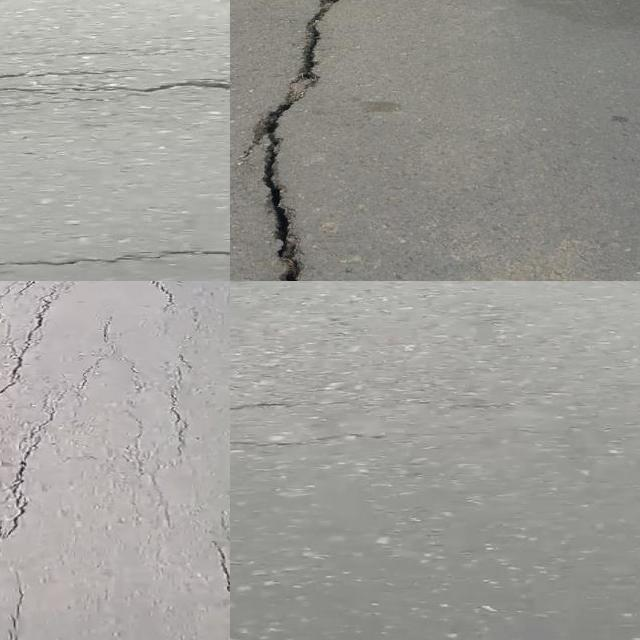Melintang: (0, 59, 230, 104), (0, 234, 230, 278)
Memanjang: (246, 0, 348, 281), (0, 407, 69, 584), (0, 281, 73, 413), (197, 519, 230, 626)
